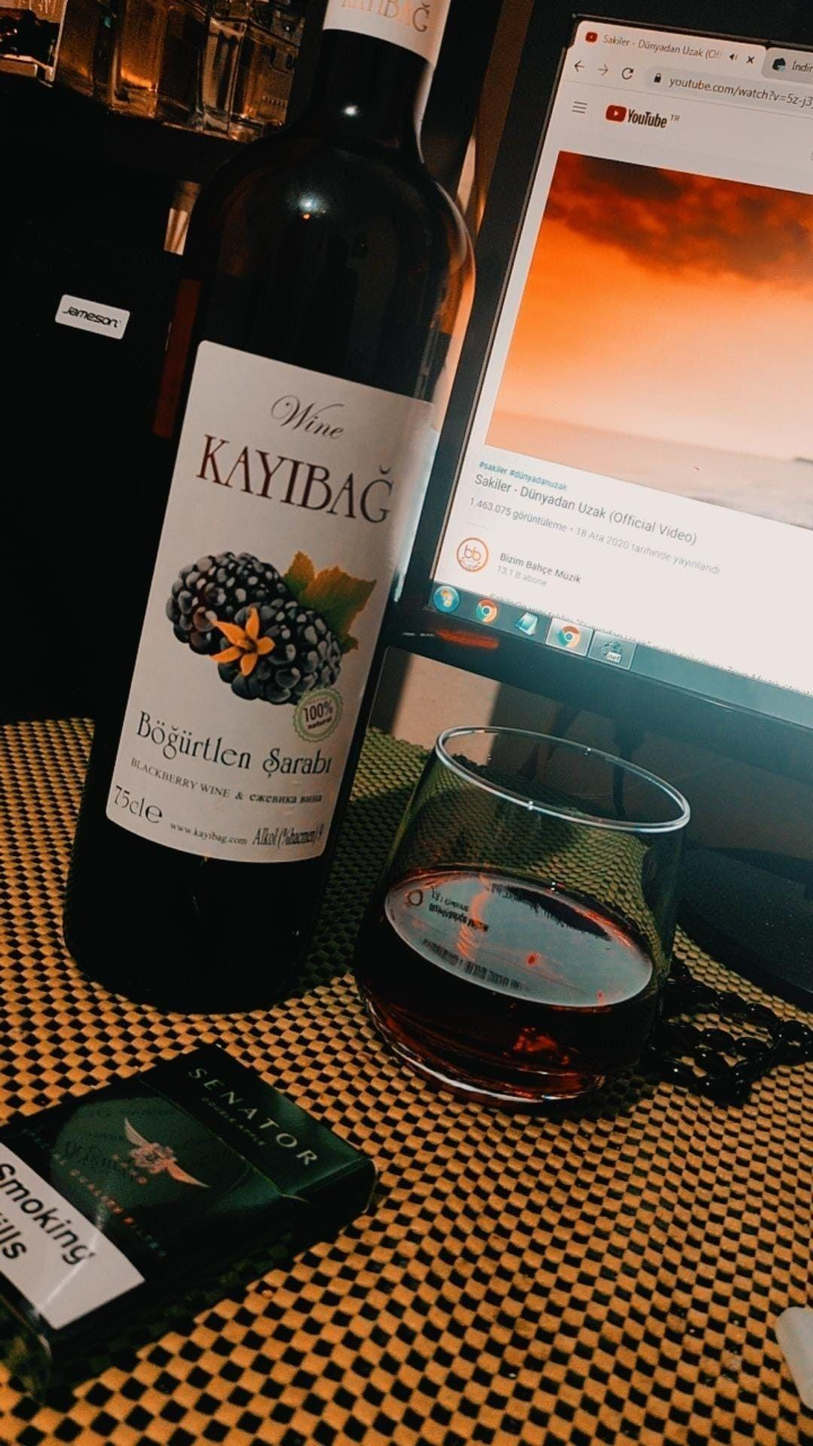bottle-glass: (62, 0, 478, 1009)
glass-normal: (347, 726, 691, 1103)
